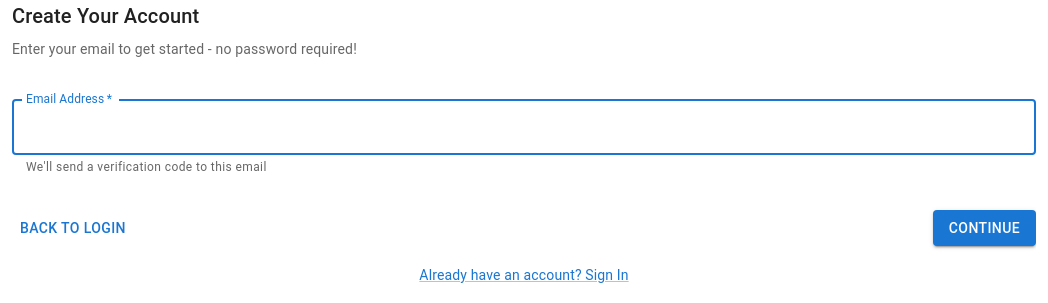
Scenario: BasicInfoStep Validation › Email Validation › should clear email error when user starts typing
Note: Submit form to show error
Submit the form
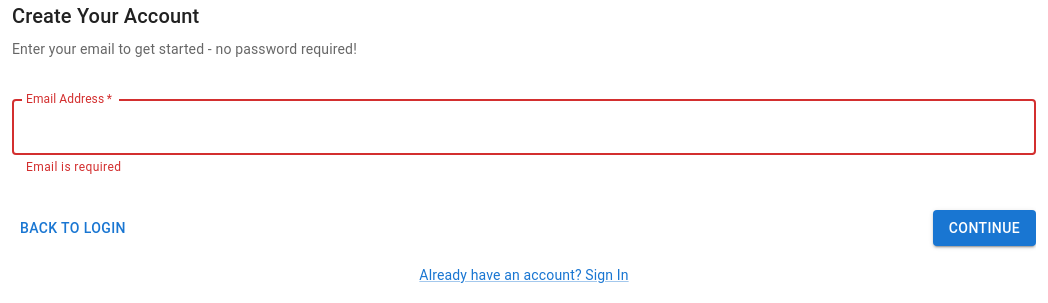
Expected: the text "Email is required" is shown, left=26, top=160, right=121, bottom=174
Note: Start typing to clear error
In the field labelled "Email Address *": (524,127) left=12, top=99, right=1036, bottom=155, type "test@example.com"
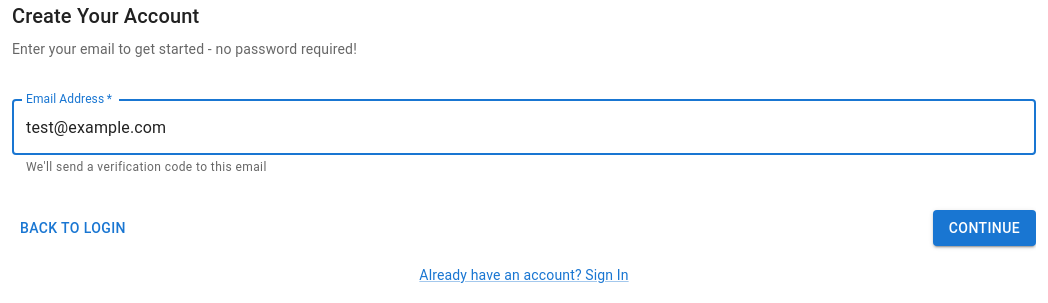
Expected: the text "Email is required" is gone
